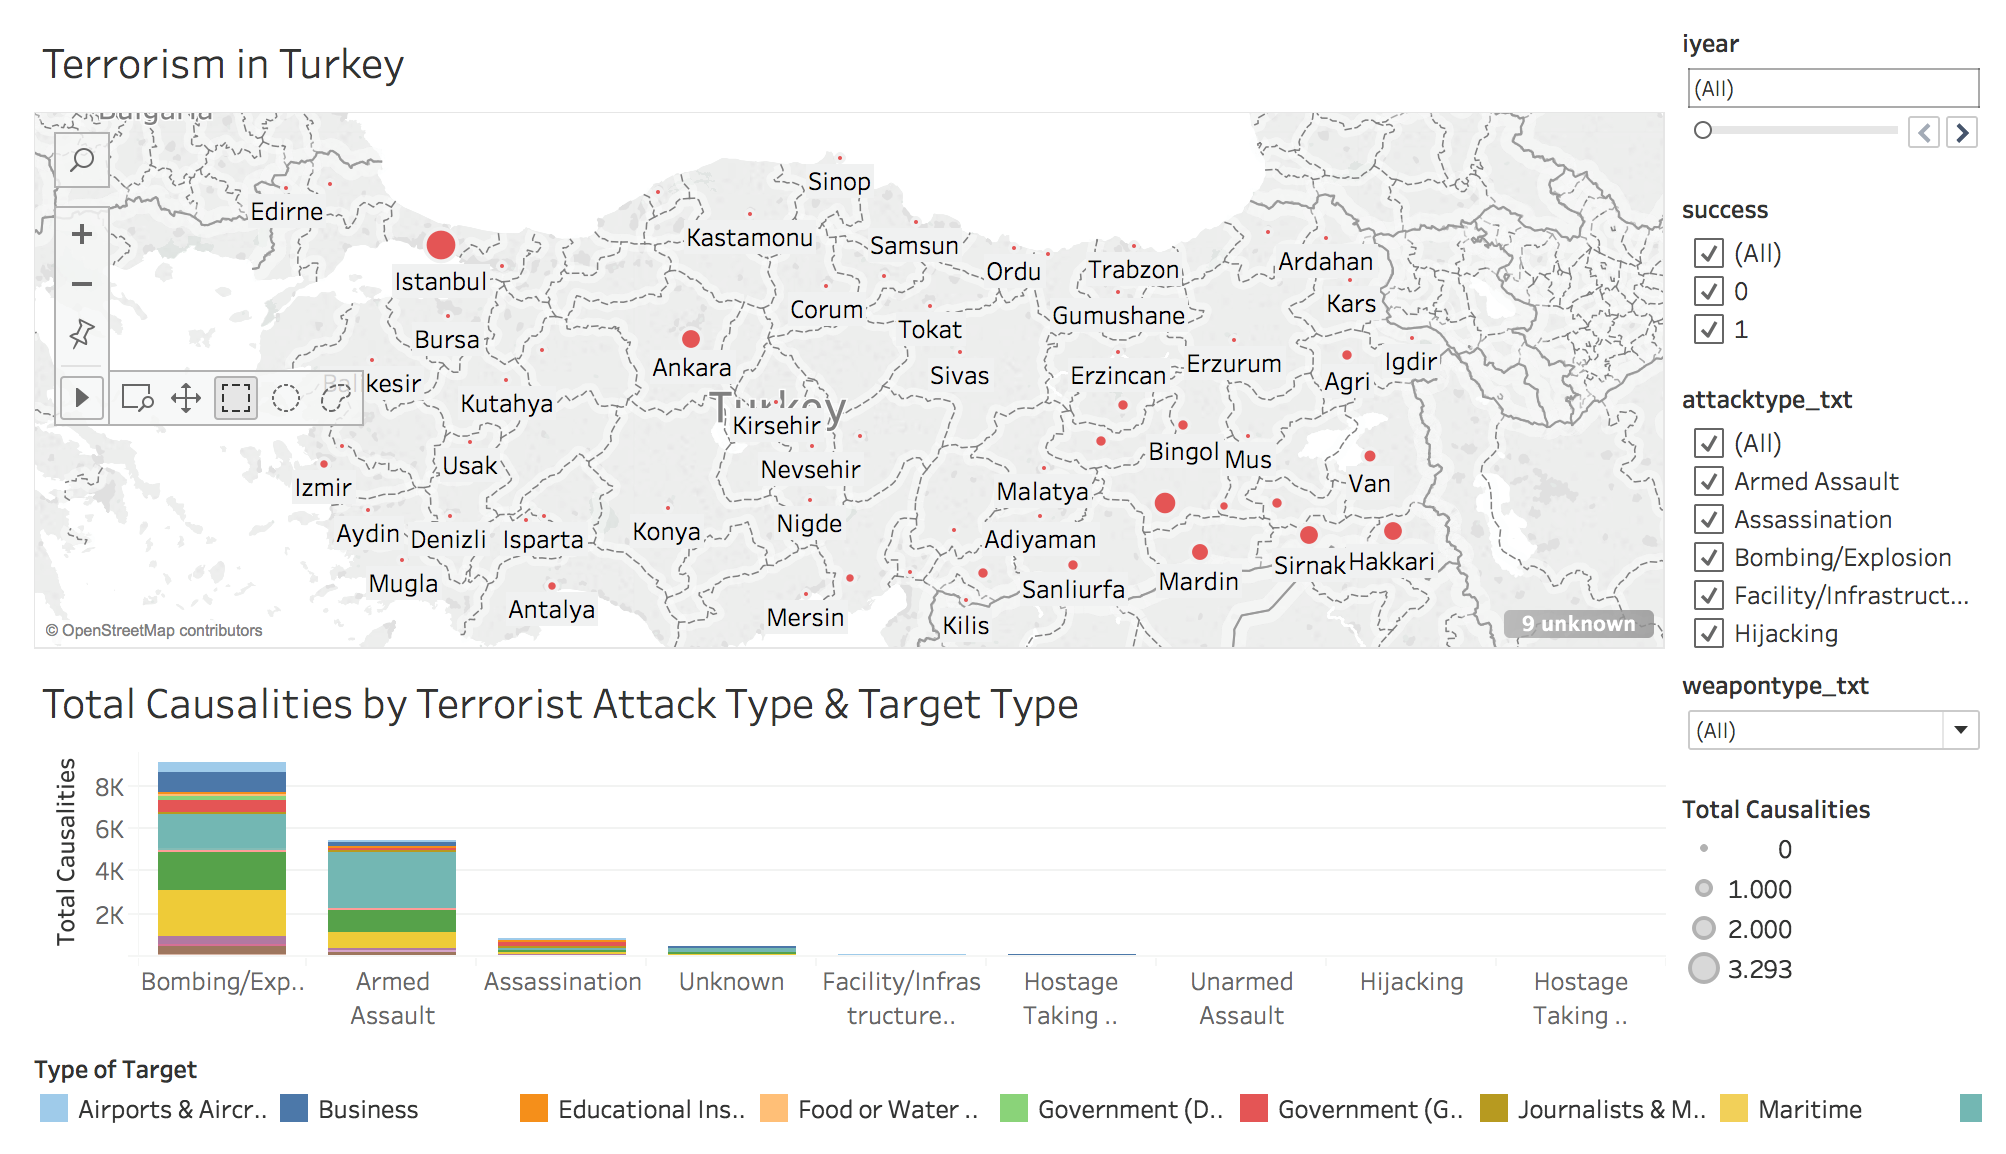

This screenshot's page, from the dashboard's own definition file:
{"tool":"tableau","page":{"name":"Dashboard 1","canvas":[1000,800],"ordinal":0},"visuals":[{"type":"worksheet","title":"Sheet 1","mark":"Automatic","rows":["latitude"],"cols":["longitude"],"box":[8,8,824,784]},{"type":"filter","title":"Sheet 1","param":"[federated.0r33ruc1mmh9n51cb5izi0kvz6ea].[none:iyear:ok]","box":[832,8,160,75]},{"type":"filter","title":"Sheet 1","param":"[federated.0r33ruc1mmh9n51cb5izi0kvz6ea].[none:success:ok]","box":[832,83,160,89]},{"type":"filter","title":"Sheet 1","param":"[federated.0r33ruc1mmh9n51cb5izi0kvz6ea].[none:attacktype_txt:nk]","box":[832,172,160,52]},{"type":"legend","title":"Sheet 1","param":"[federated.0r33ruc1mmh9n51cb5izi0kvz6ea].[none:attacktype_txt:nk]","box":[832,224,160,126]},{"type":"legend","title":"Sheet 1","param":"[federated.0r33ruc1mmh9n51cb5izi0kvz6ea].[sum:Calculation_5759541039107858432:qk","box":[832,350,160,166]}]}

Visuals, with their boxes on the page's 1000x800 design canvas (x1, y1, x2, y2). These are canvas units, not pixel positions in the 2006x1154 screenshot, which may show the page scaled, cropped or inside an application window:
"Sheet 1" worksheet: box=[8, 8, 832, 792]
"Sheet 1" filter: box=[832, 8, 992, 83]
"Sheet 1" filter: box=[832, 83, 992, 172]
"Sheet 1" filter: box=[832, 172, 992, 224]
"Sheet 1" legend: box=[832, 224, 992, 350]
"Sheet 1" legend: box=[832, 350, 992, 516]
